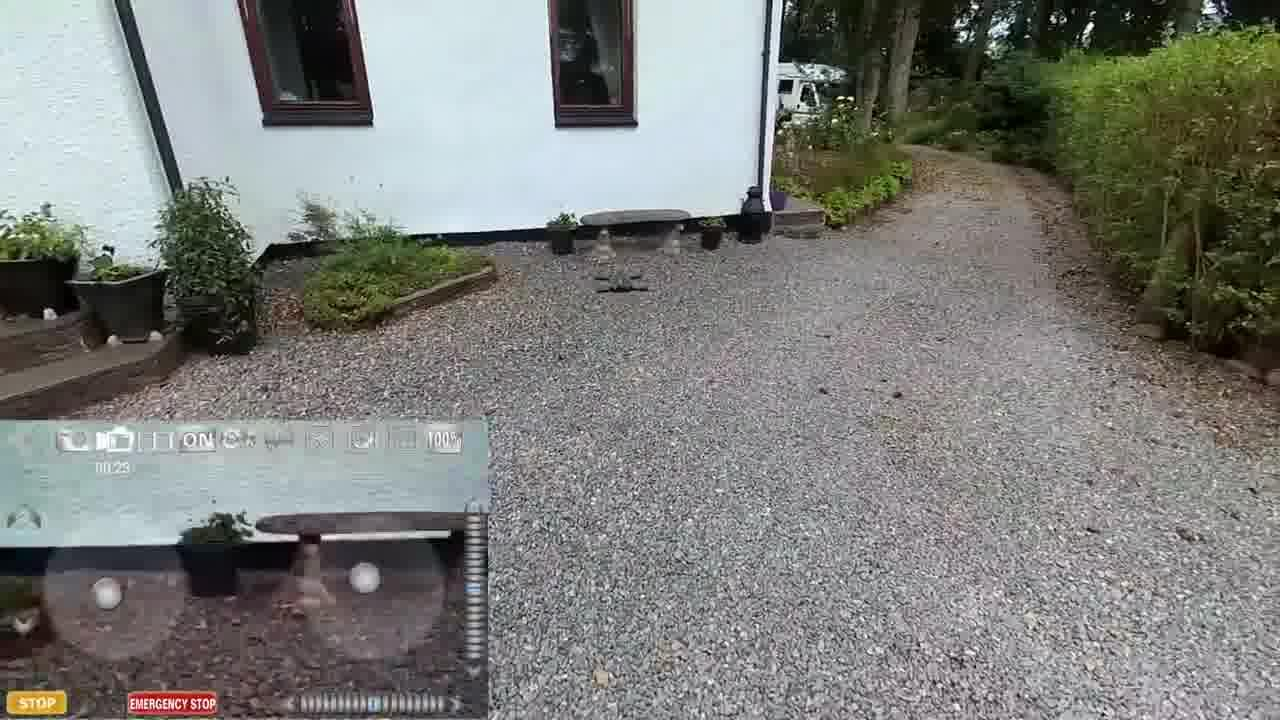drone: (586, 264, 656, 305)
